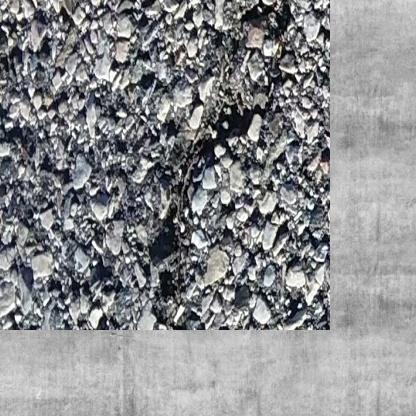Cracks: (130, 0, 272, 305), (295, 120, 305, 155)
